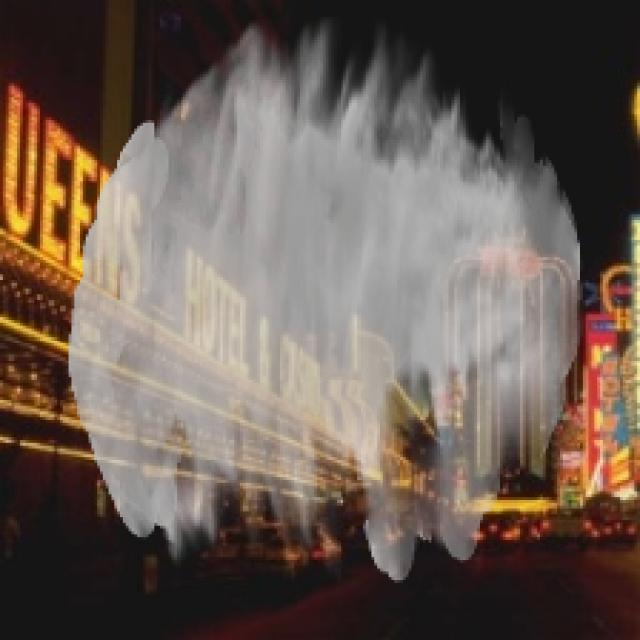smoke: (68, 17, 583, 583)
